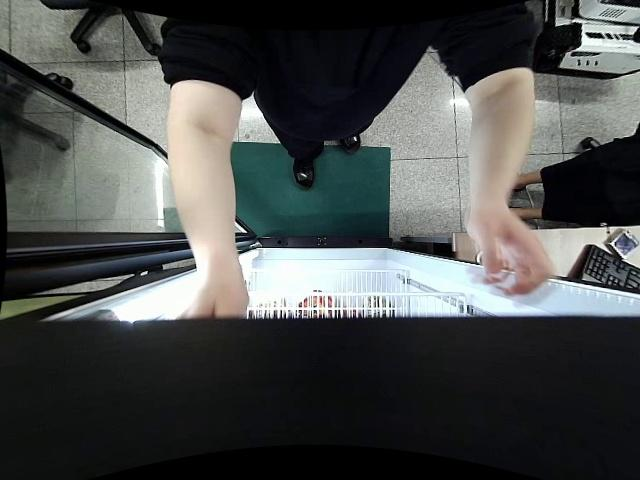00_hand: (460, 202, 559, 302)
